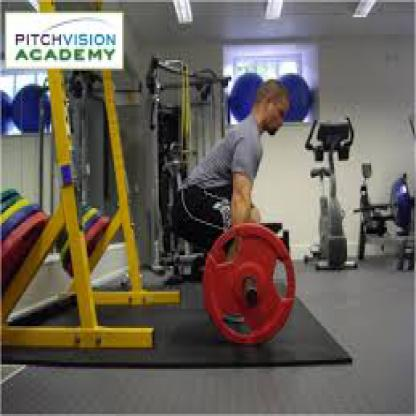Barbell: (198, 218, 299, 352)
